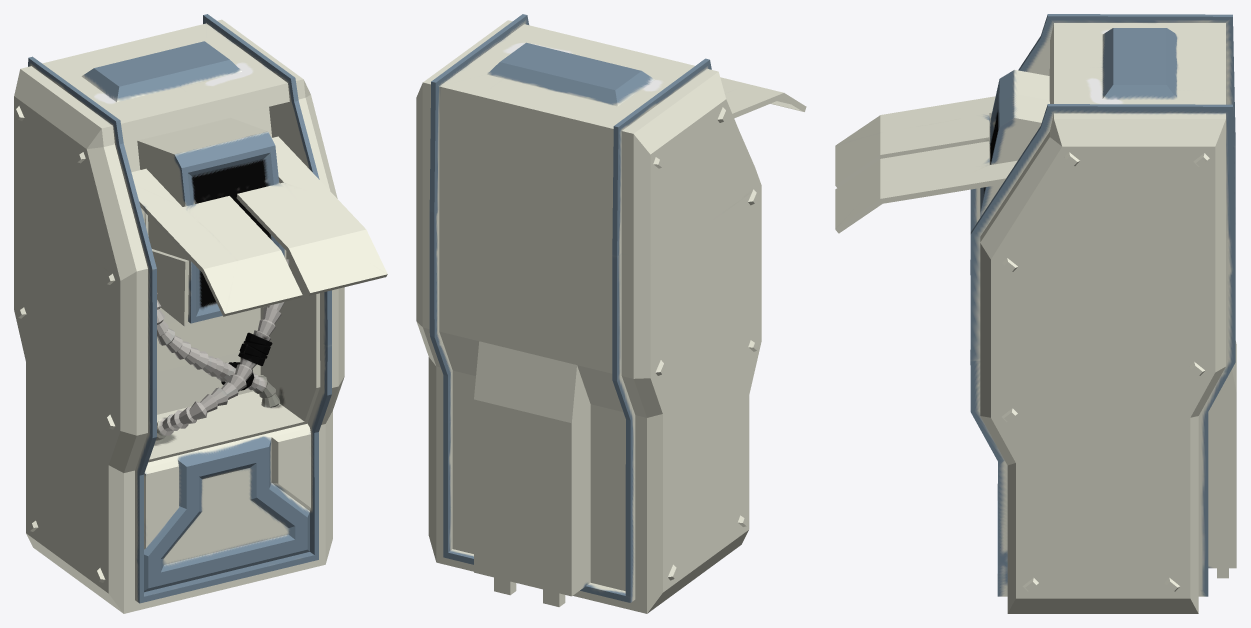
The model's file is Cablebox_open_fixed.fbx.
The picture shows the model from 3 angles, left to right: view 1: azimuth 30°, elevation 25°; view 2: azimuth 150°, elevation 25°; view 3: azimuth 270°, elevation 25°; orthographic projection. The views are drawn at different scales.
Parts seen in each view (by area): view 1: node_id5; view 2: node_id5; view 3: node_id5.
Boxes of the visible parts, left/top/right/bottom form: node_id5: left=14, top=14, right=387, bottom=613; node_id5: left=416, top=14, right=806, bottom=613; node_id5: left=835, top=14, right=1236, bottom=613.
Bounding box in the file's own units: 0.2587 × 0.512 × 0.3684.
Materials: 1 (1 with a texture image).
